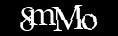8: (20, 7, 34, 30)
M: (51, 5, 84, 30)
m: (28, 9, 56, 24)
o: (81, 13, 97, 29)
